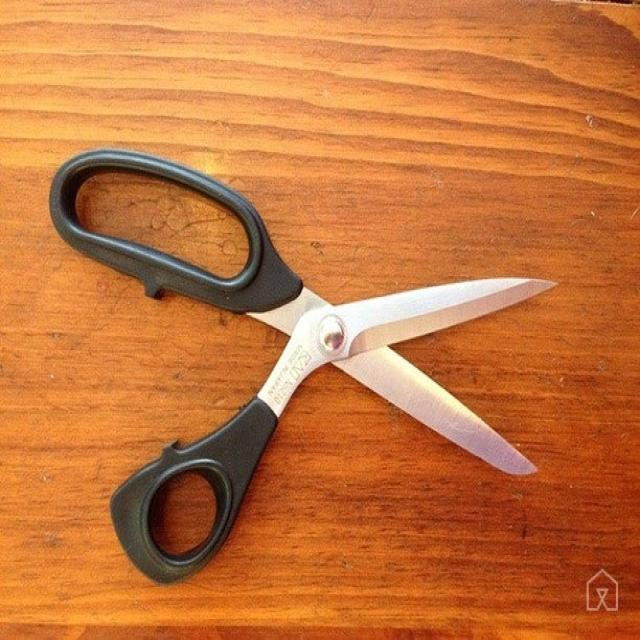scissor: (47, 149, 549, 586)
